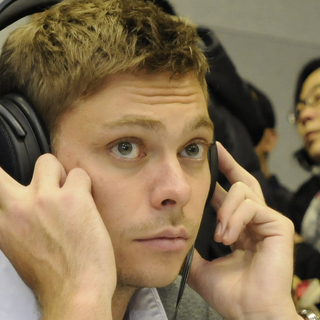eye: (101, 134, 149, 162), (177, 134, 209, 163)
